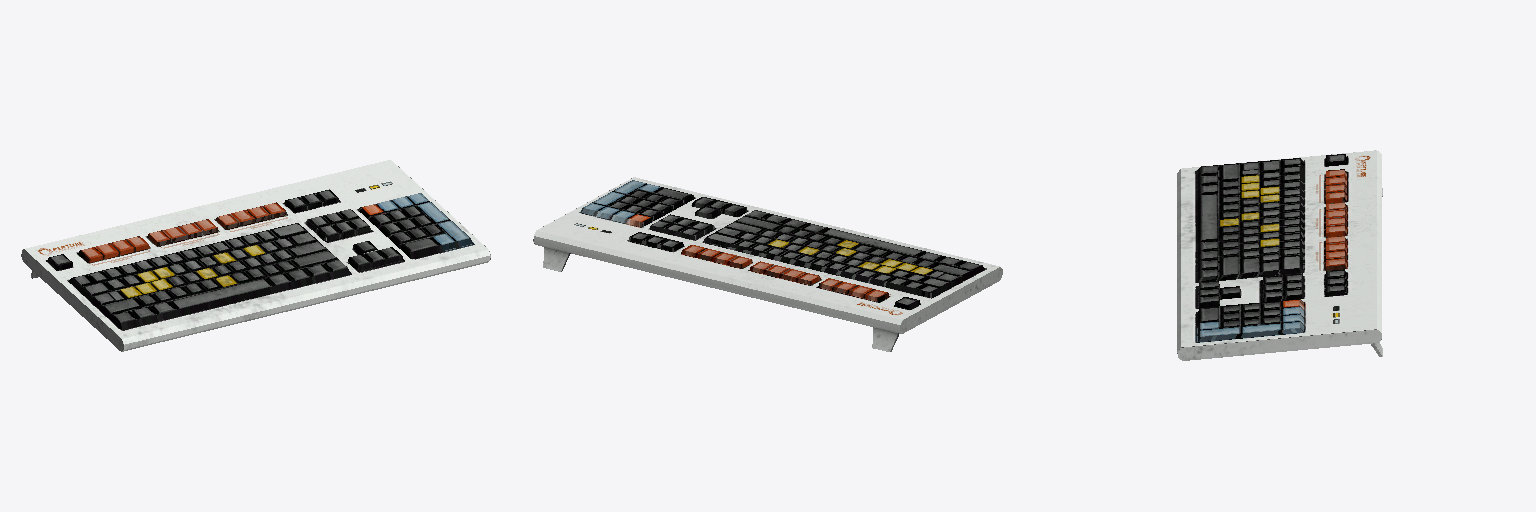
3 renders of one model, left to right at view 1: azimuth 30°, elevation 25°; view 2: azimuth 150°, elevation 25°; view 3: azimuth 270°, elevation 25°, orthographic.
Parts seen in each view (by area): view 1: g0; view 2: g0; view 3: g0.
Boxes of the visible parts, box(x1,y1,x2,y2) form: g0: box(21, 160, 490, 351); g0: box(533, 177, 1002, 351); g0: box(1177, 150, 1382, 360).
Size of the model in its own units: 22.83 by 2.01 by 11.07.
Materials: 1 (1 with a texture image).